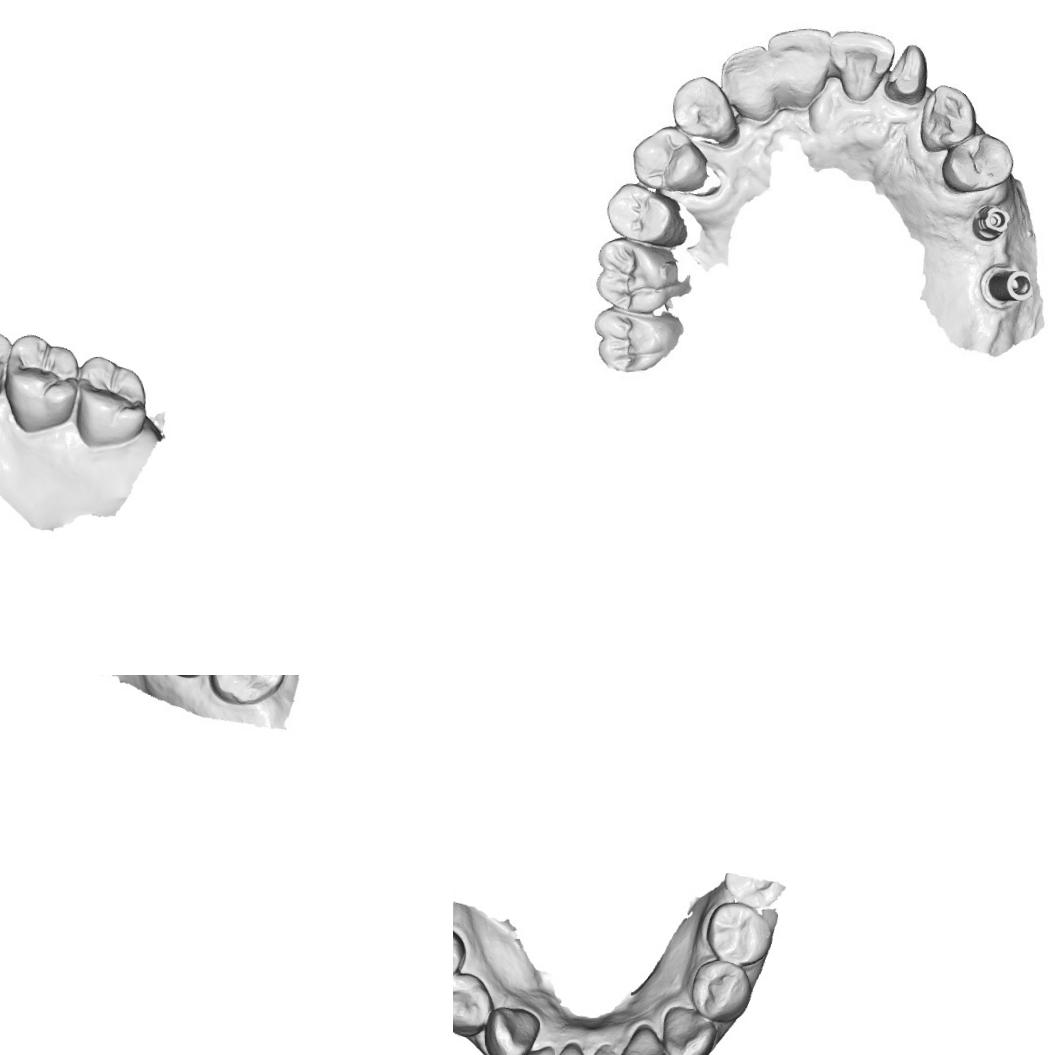canine: (667, 74, 738, 152), (910, 78, 977, 154), (478, 1001, 541, 1055), (661, 1004, 716, 1055)
crown: (878, 40, 941, 109)
implant: (980, 258, 1037, 310), (965, 200, 1016, 242)
incisor: (770, 23, 841, 112), (720, 42, 784, 133), (833, 27, 897, 99), (616, 1023, 672, 1055)
molar: (0, 329, 83, 434), (70, 351, 152, 446), (592, 303, 688, 374), (591, 236, 676, 316), (203, 675, 289, 708)
premolar: (602, 176, 691, 253), (628, 118, 714, 196), (704, 896, 771, 968), (944, 131, 1014, 190), (688, 959, 751, 1021), (453, 969, 494, 1038), (453, 923, 468, 987), (0, 326, 12, 402)
